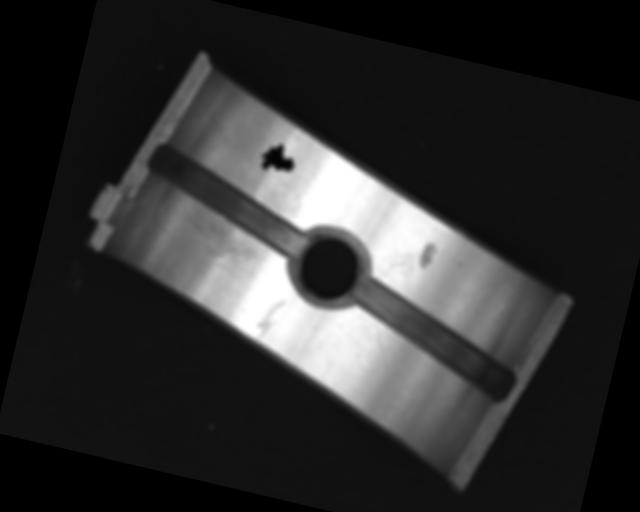blot: (258, 138, 300, 177)
bruise: (417, 240, 439, 272)
gap: (337, 275, 529, 402), (137, 141, 318, 255)
hole: (284, 222, 369, 309)
nick: (253, 294, 287, 345)
scratch: (168, 201, 275, 273)
